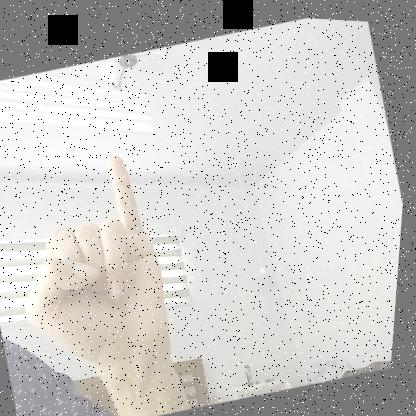I: (0, 141, 193, 379)
